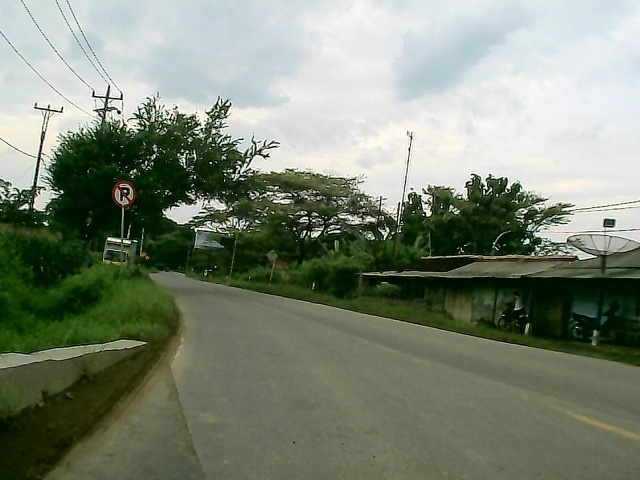Dilarang parkir: (110, 180, 139, 209)
